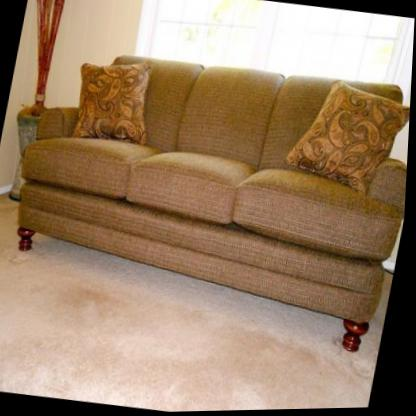Sofa: (0, 34, 414, 365)
